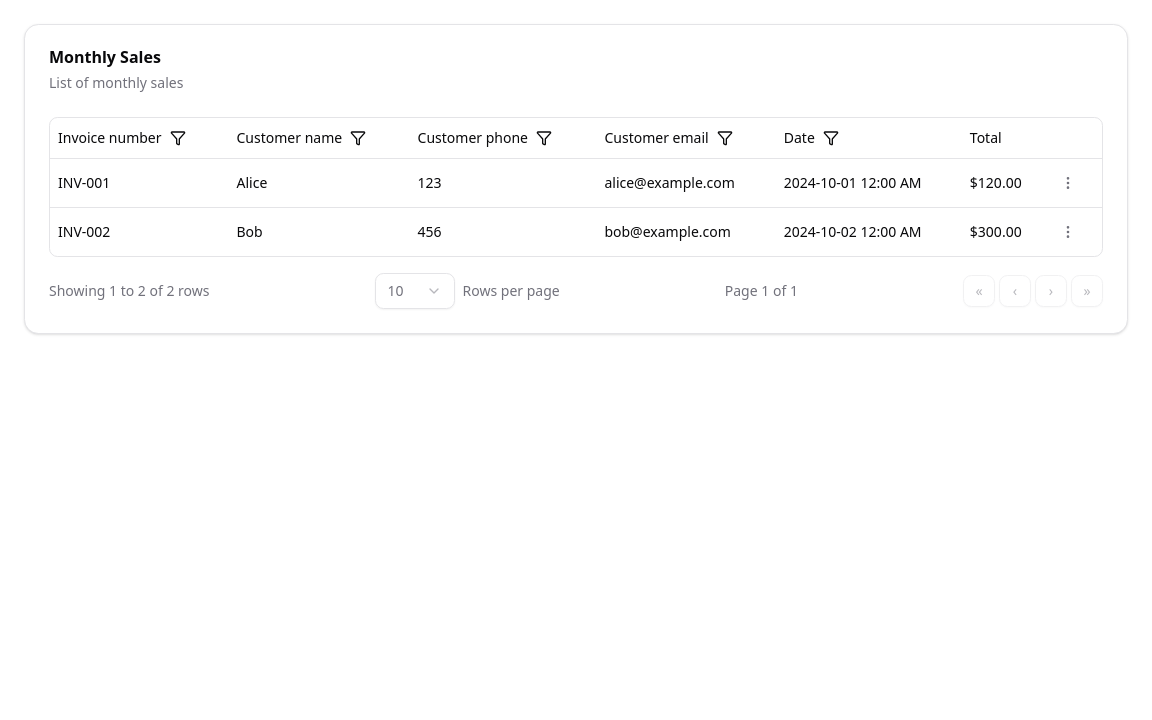
Monthly Sales report page › filters sales by invoice number
Expected: the text "INV-001" is shown, [50, 158, 228, 207]
// Open the filter UI by clicking the filter button
Step 1. Click the button without text next to "Invoice number" → {"x": 178, "y": 138}, box [166, 126, 190, 150]
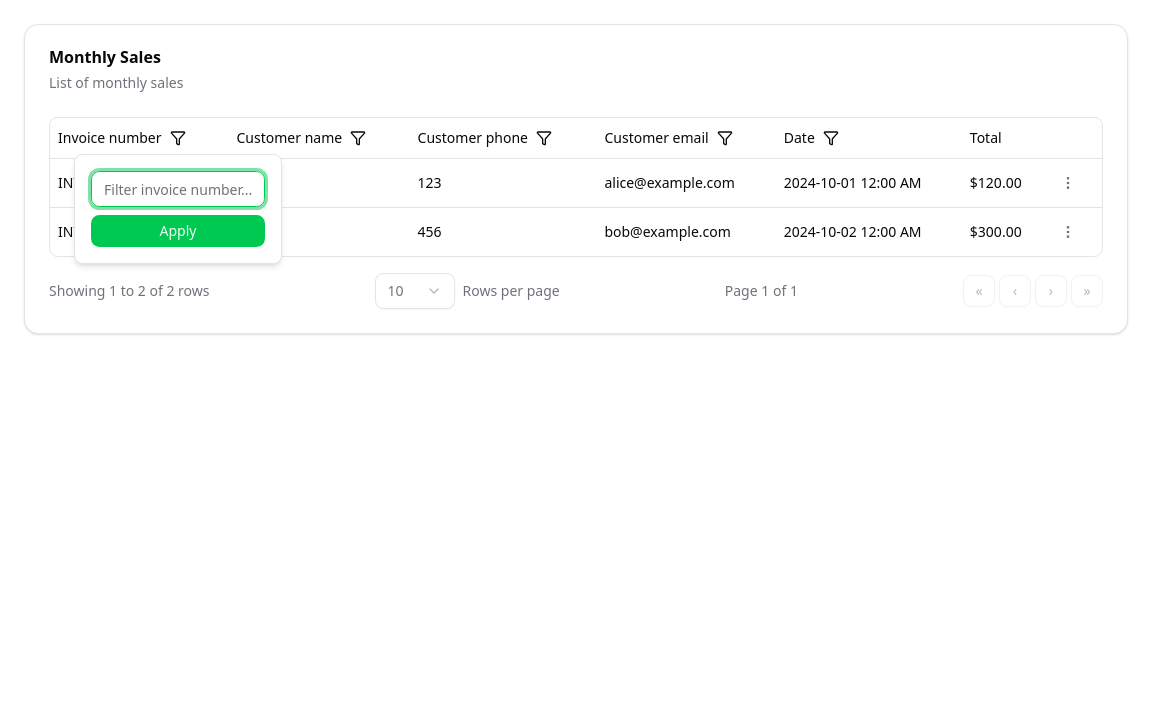
// Type the invoice number we want to filter by
Step 2. Type "INV-002" into the field with placeholder "Filter invoice number..." → {"x": 178, "y": 189}, box [91, 171, 265, 207]
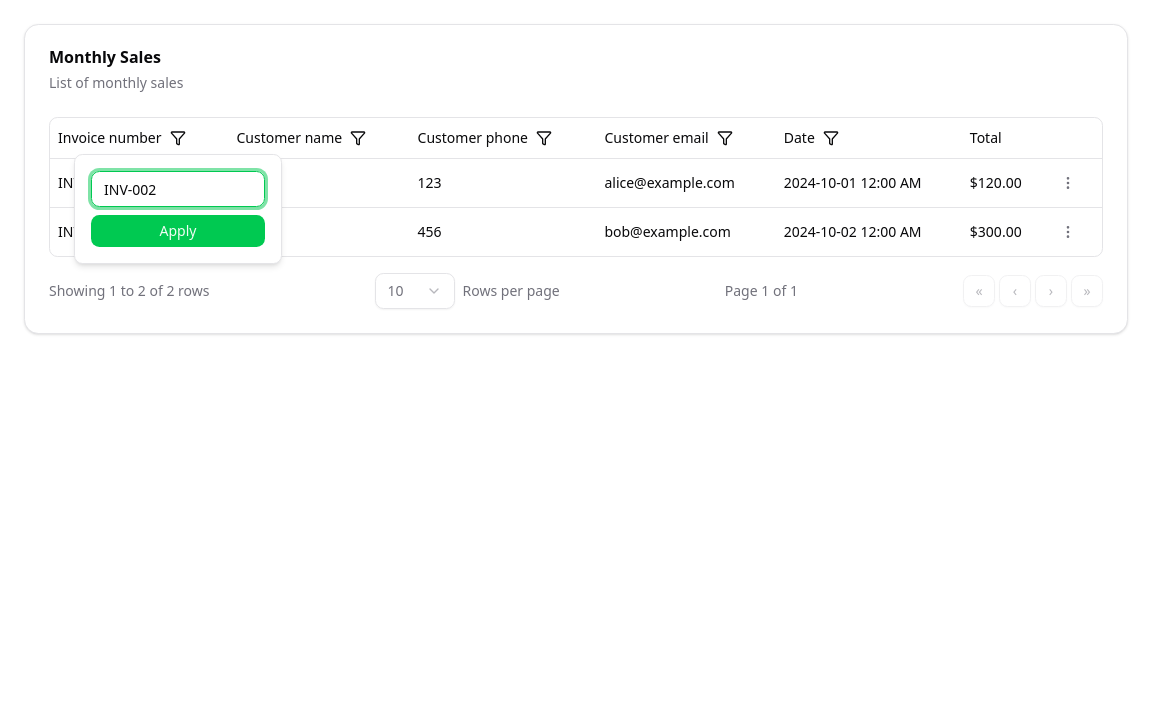
// Click the "Apply" button to trigger the filter request
Step 3. Click the button "Apply" → {"x": 178, "y": 231}, box [91, 215, 265, 247]
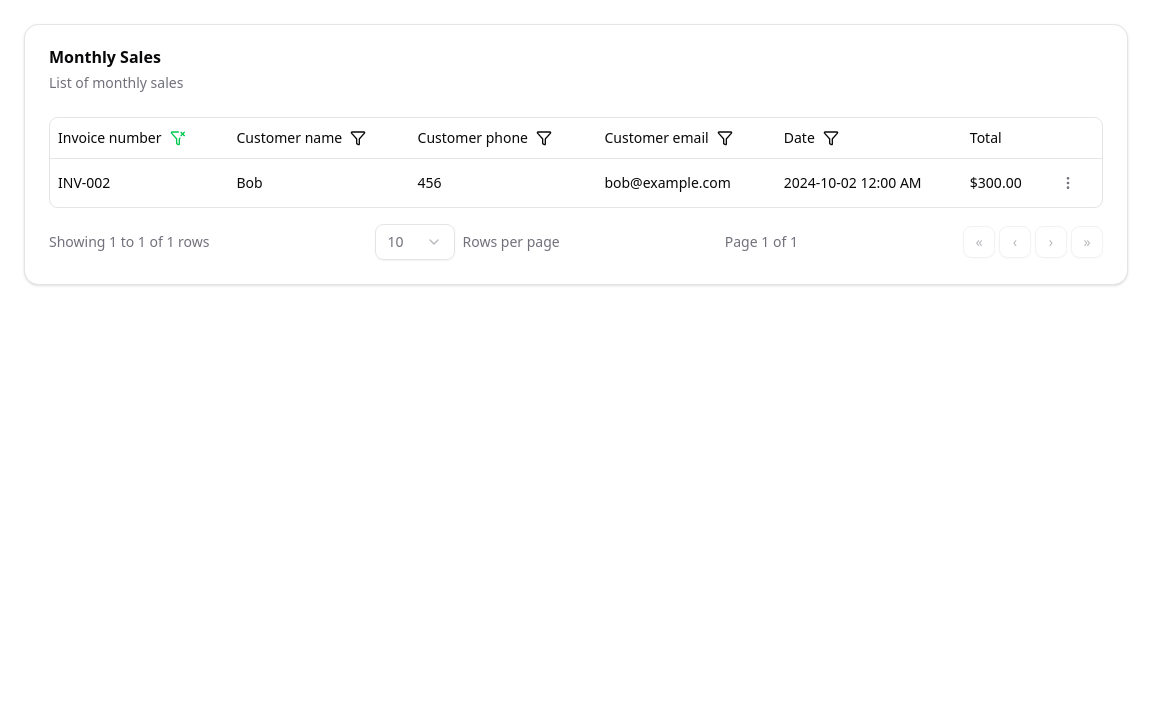
Expected: the text "INV-002" is shown, [50, 158, 228, 206]
Now the text "INV-001" is gone
